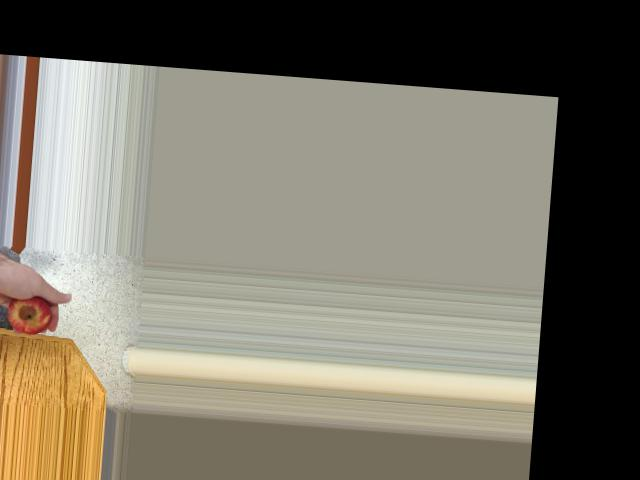apple: (1, 290, 55, 337)
